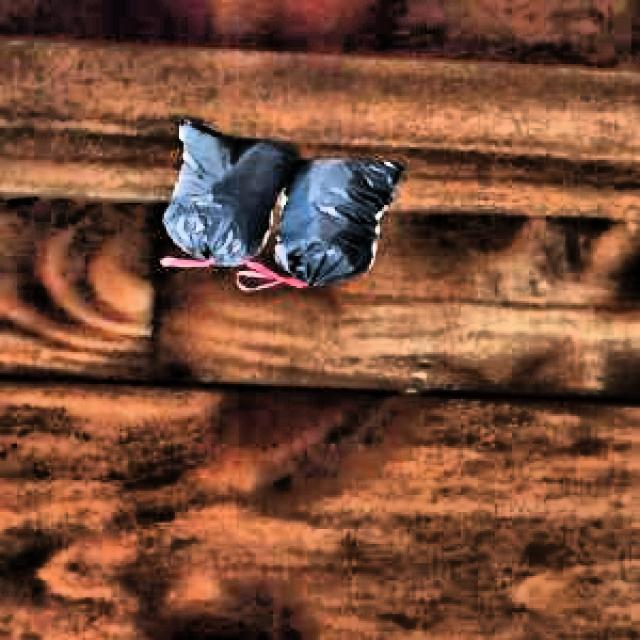Trashbag: (280, 156, 411, 284), (164, 130, 288, 255)
